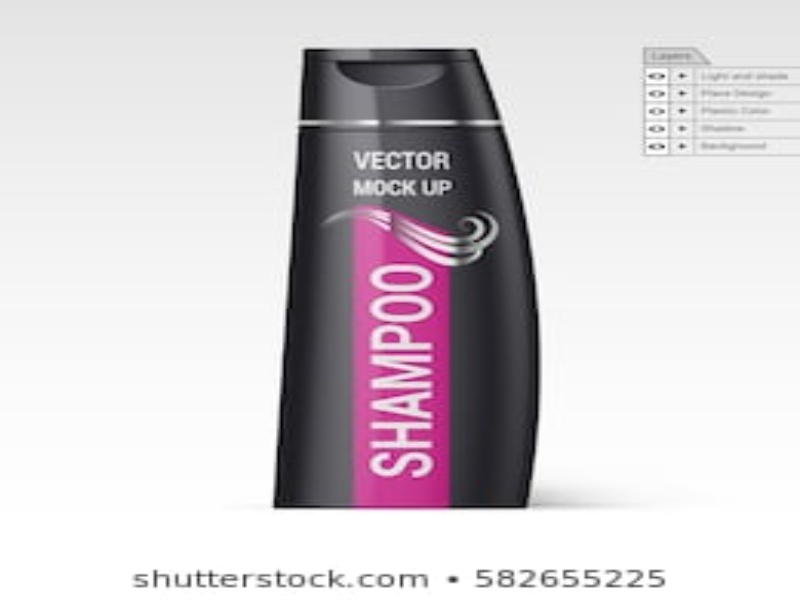shampoo-bottle: (269, 39, 547, 512)
